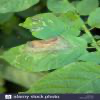Potato leaf late blight: (1, 34, 92, 73), (17, 12, 87, 40)
